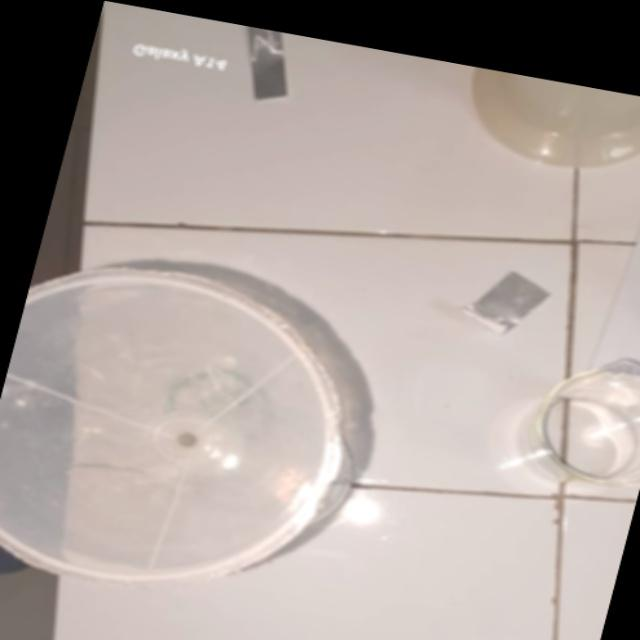Funnel: (0, 236, 388, 622)
